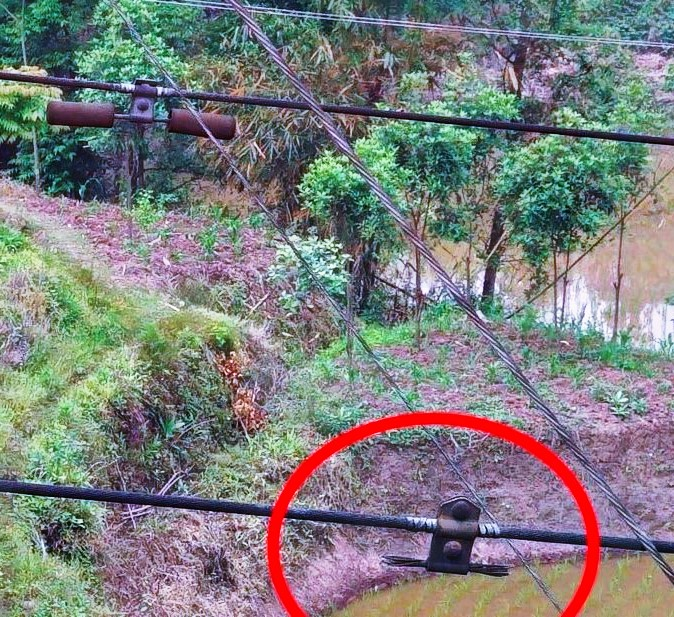Damage of shockproof hammer: (366, 488, 521, 587)
